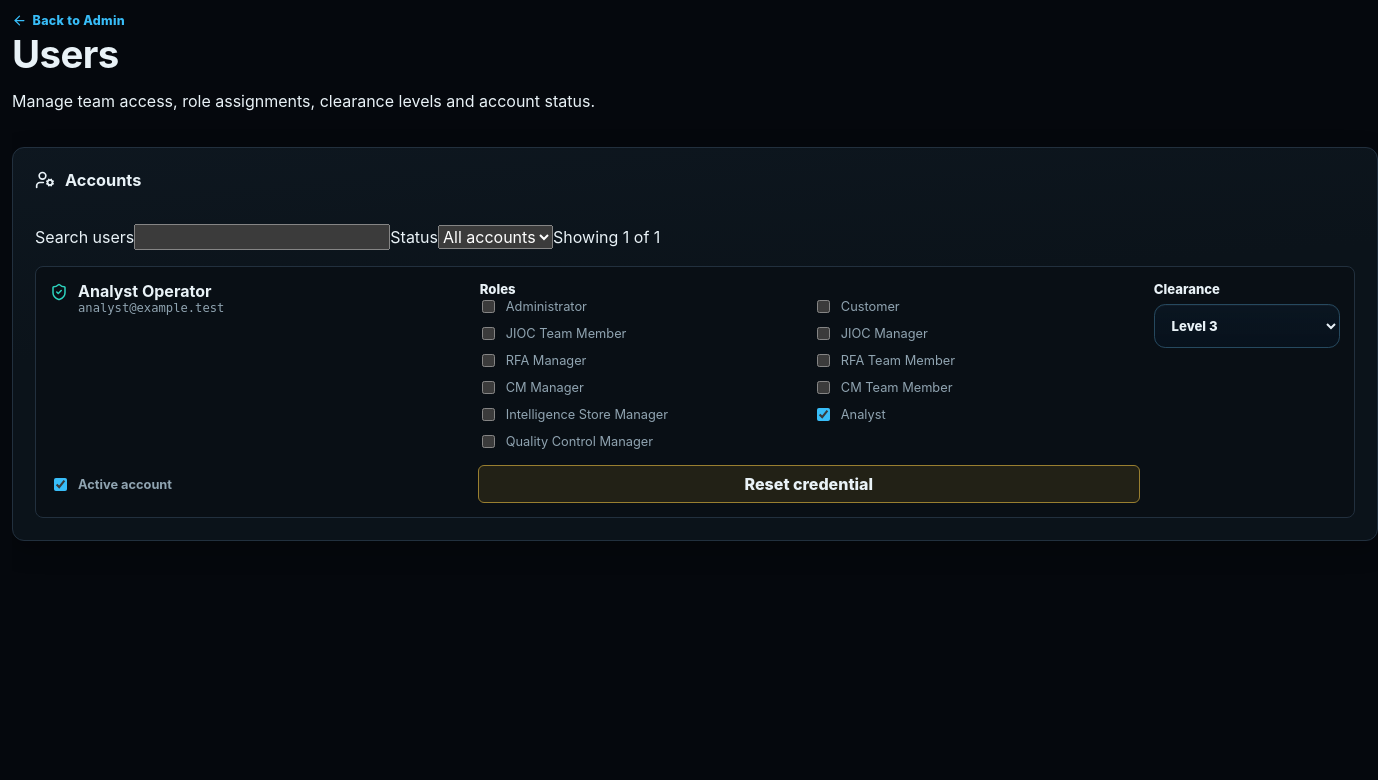
it: refuses to remove the last role and explains why
The image size is (1378, 780).
Click the checkbox labelled "Analyst" at x=823, y=415, box x1=817 y1=408 x2=830 y2=421
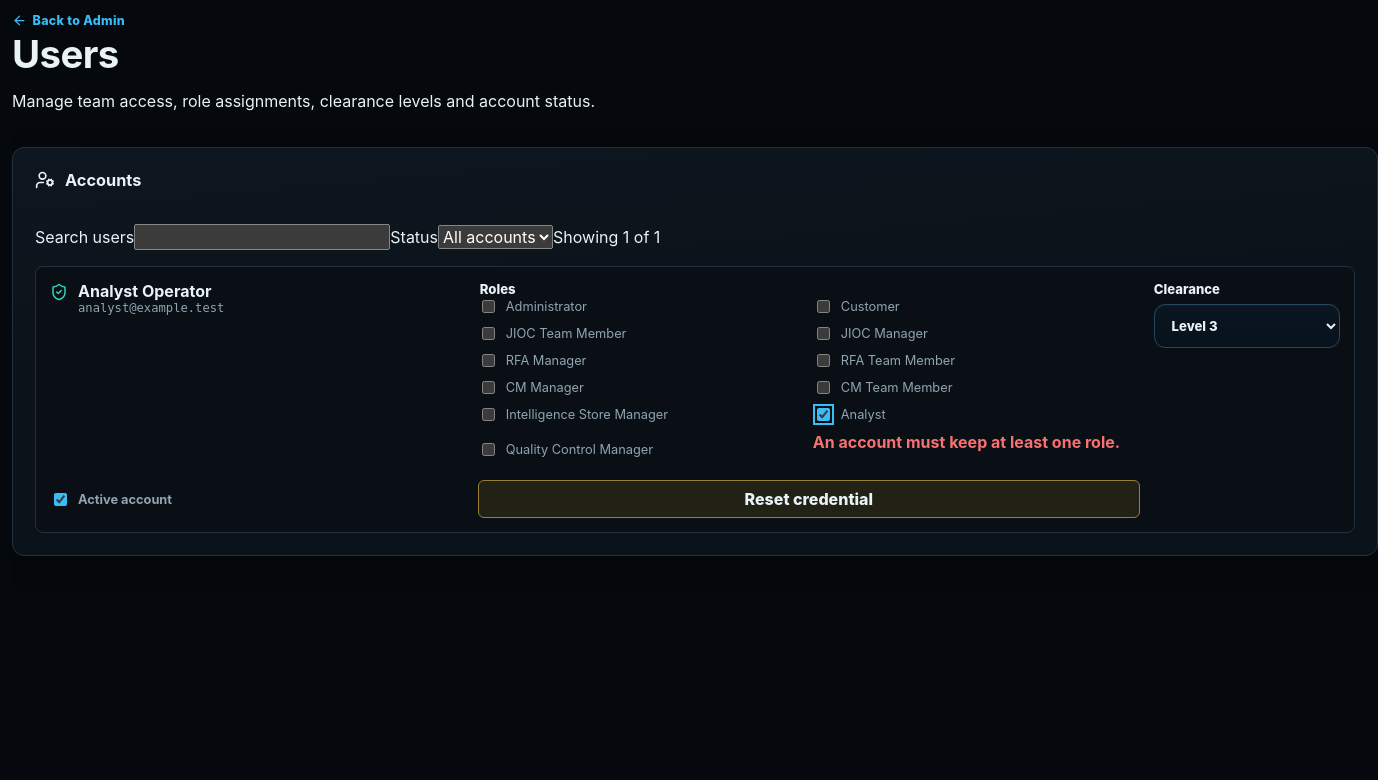
Check: the text "An account must keep at least one role." is shown, box x1=813 y1=432 x2=1140 y2=452
